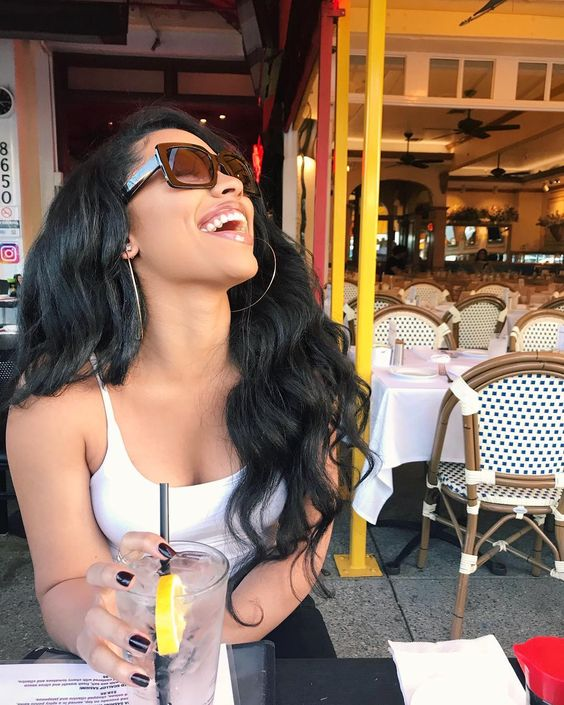without_mask: (137, 139, 249, 294)
